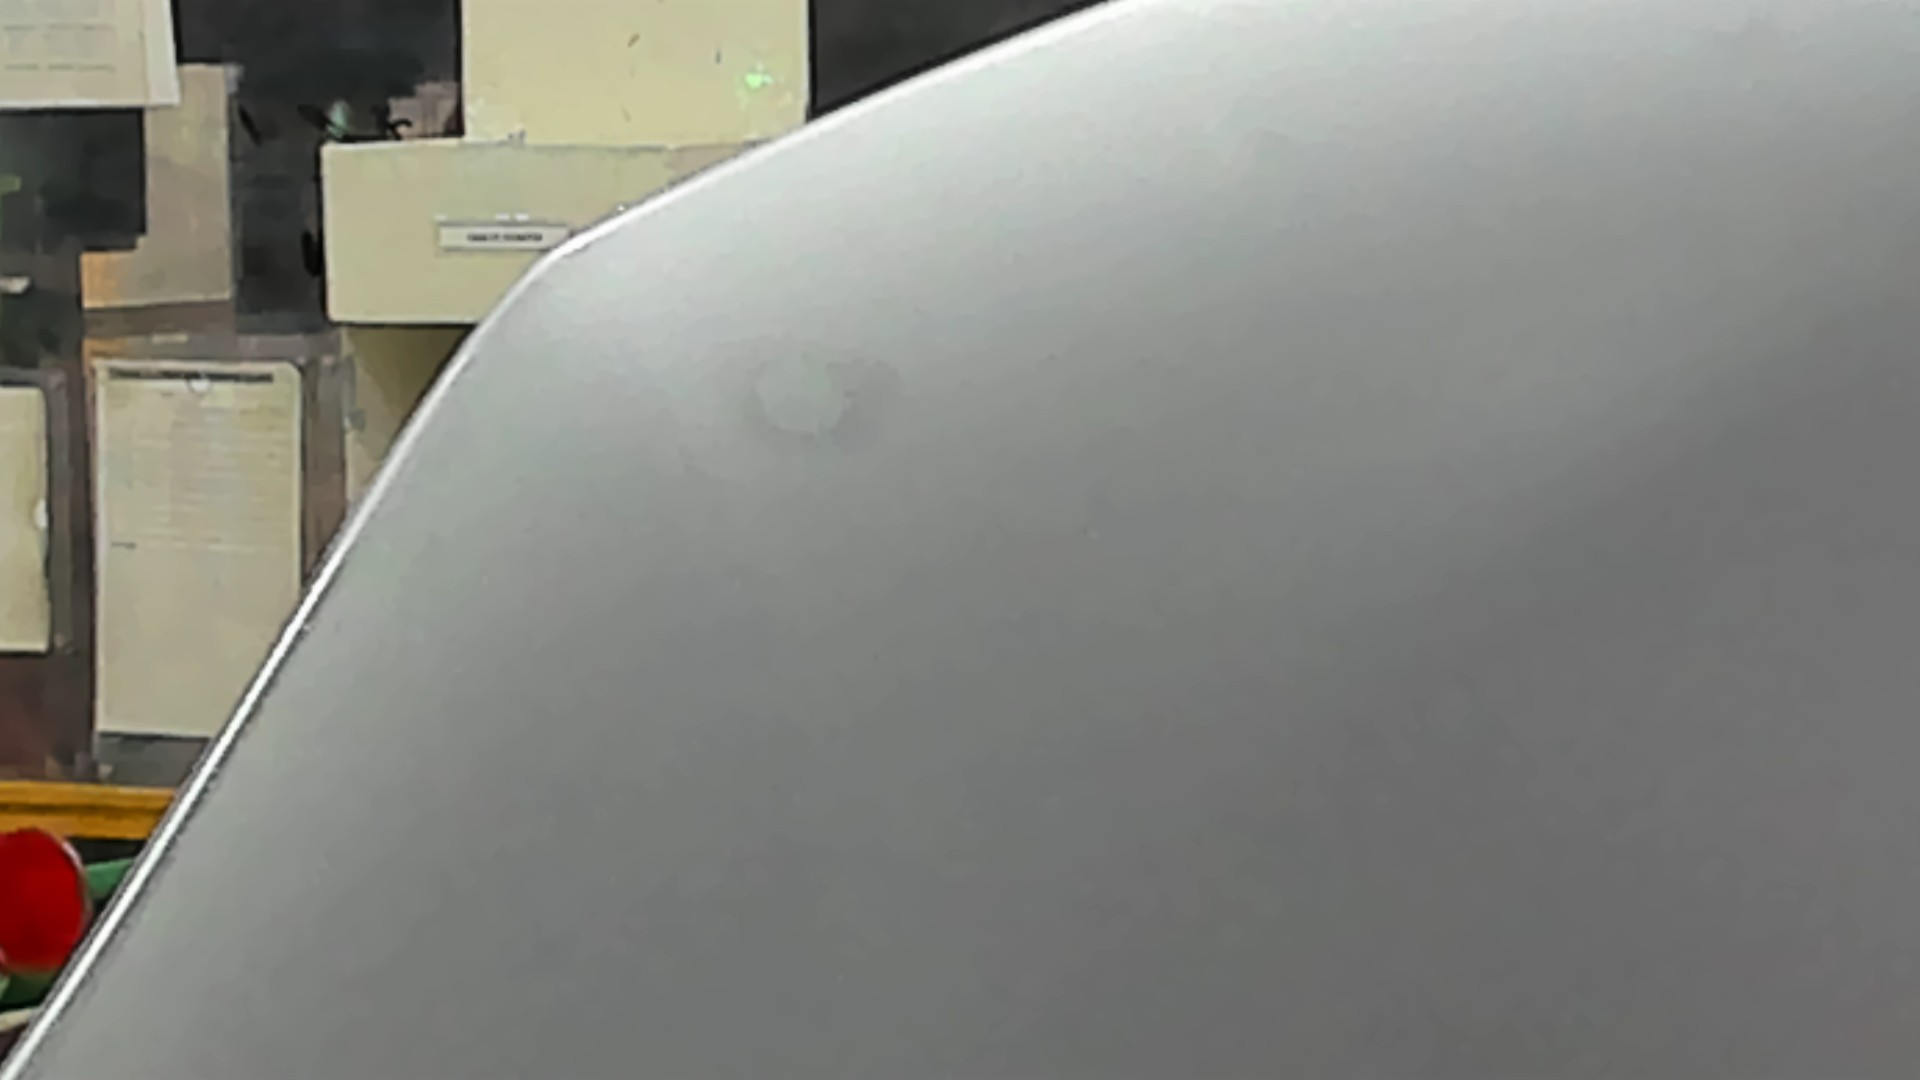capo: (738, 165, 1920, 1080)
